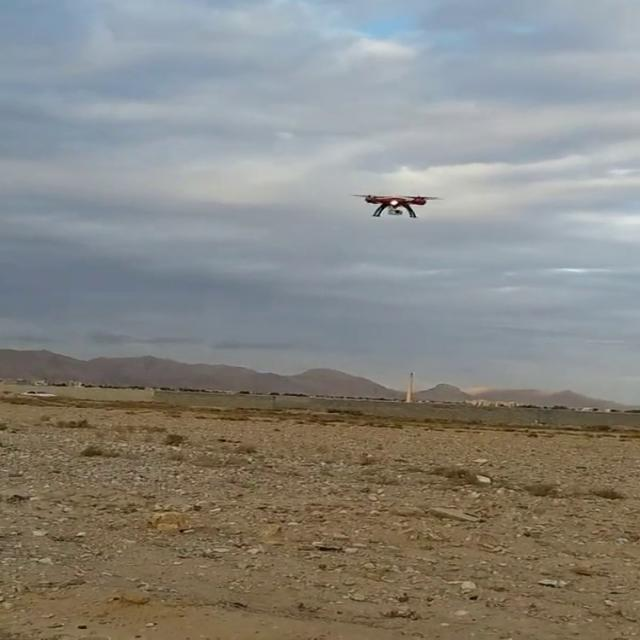drone: (351, 191, 440, 221)
